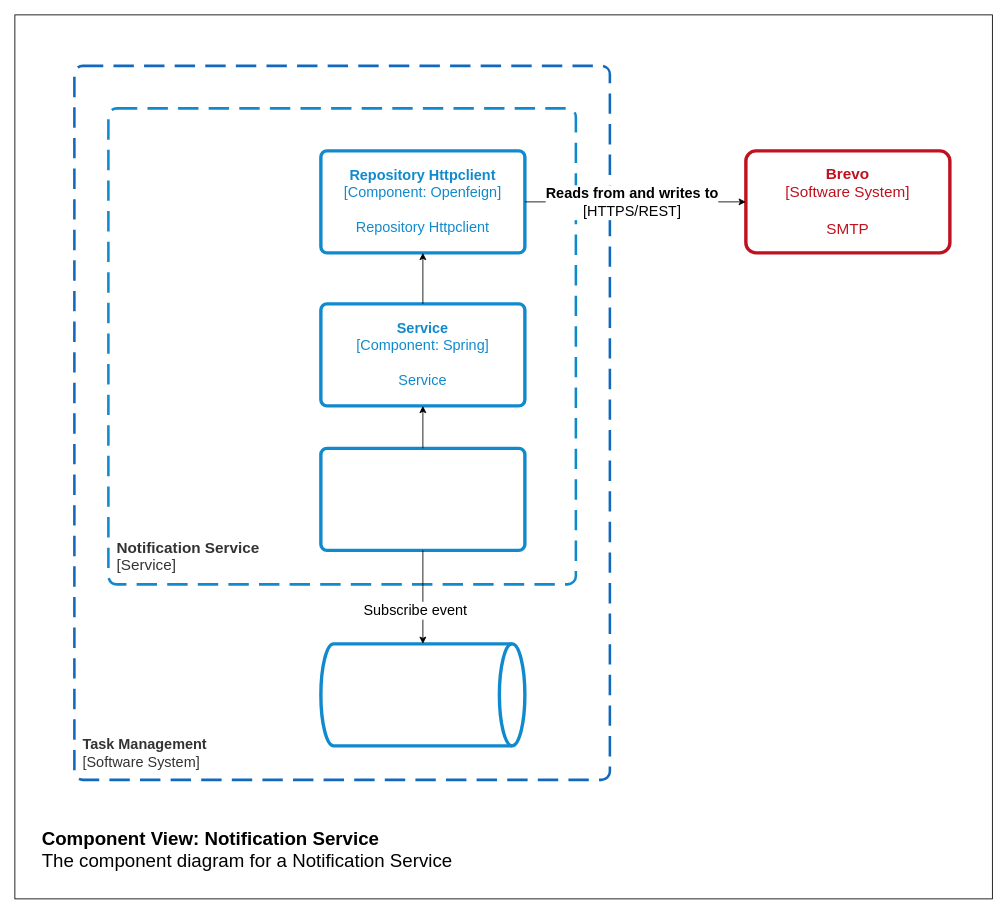
This 1007x914 diagram has some shape labels left out. Each missing label, with the centre of its shape:
"Consumer [Component: Spring] Consumer" belongs at [422,499].
"Message Broker [Container: RabbitMQ] Message Broker" belongs at [422,694].
